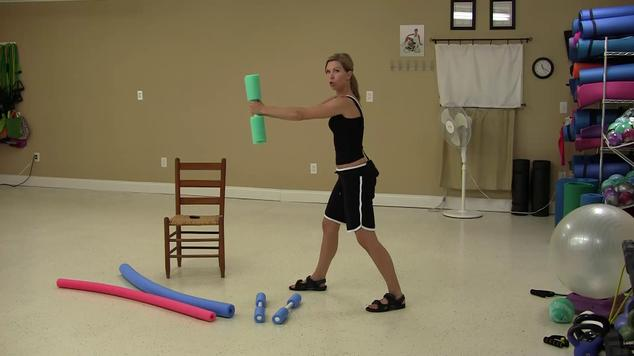walk: (268, 292, 305, 321)
